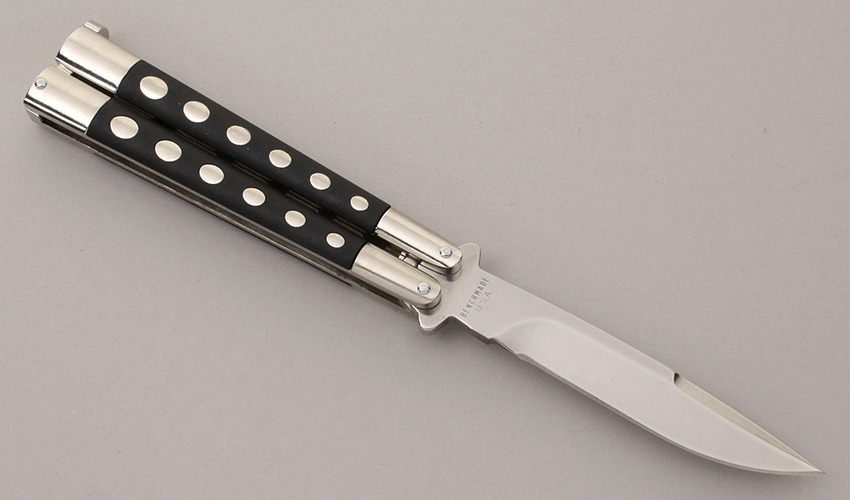knife: (17, 18, 827, 482)
